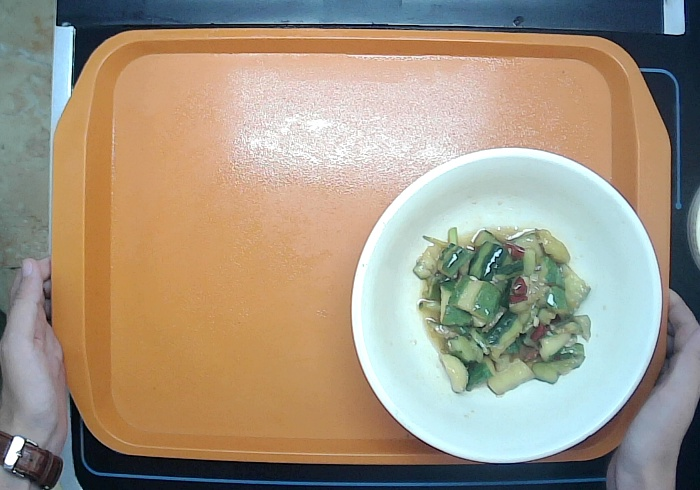ZNLD-Da_Tang_Wan: (345, 140, 671, 467)
